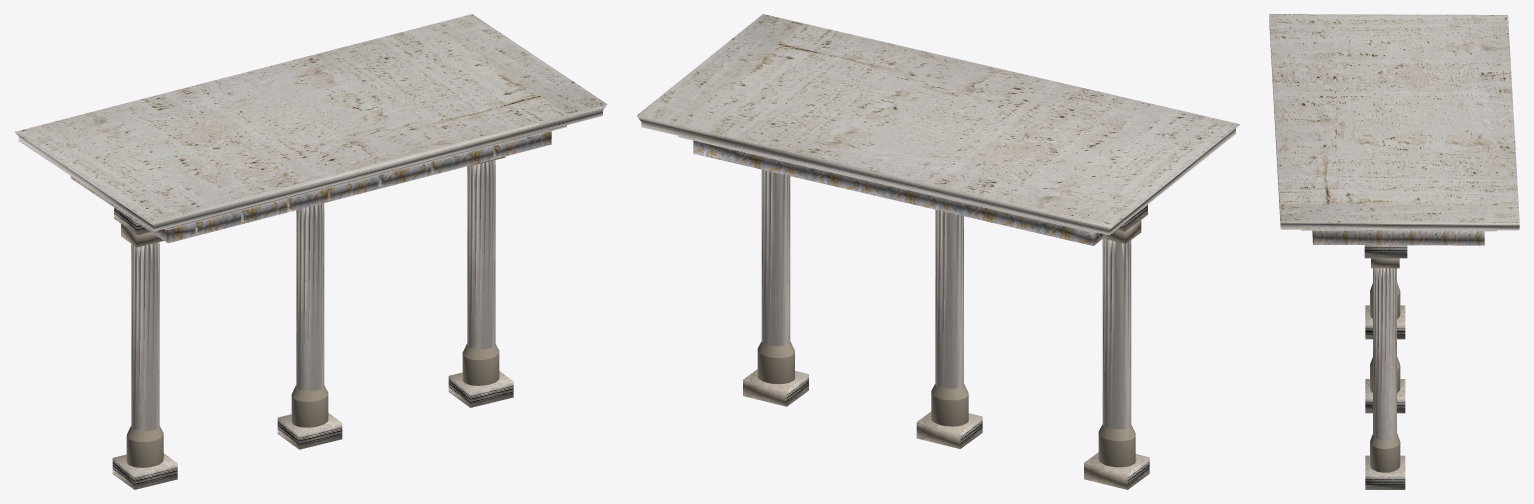
Rendered from ruin with roof.fbx.
The picture shows the model from 3 angles, left to right: view 1: azimuth 30°, elevation 25°; view 2: azimuth 150°, elevation 25°; view 3: azimuth 270°, elevation 25°; orthographic projection. The views are drawn at different scales.
Visible parts, largest first — view 1: polySurface37; view 2: polySurface37; view 3: polySurface37.
Boxes of the visible parts, x1,y1,x2,y2 form: polySurface37: (15, 14, 607, 489); polySurface37: (636, 14, 1240, 489); polySurface37: (1269, 14, 1519, 489).
Bounding box in the file's own units: 19.73 × 12.66 × 9.93.
7 materials, 5 textured.
